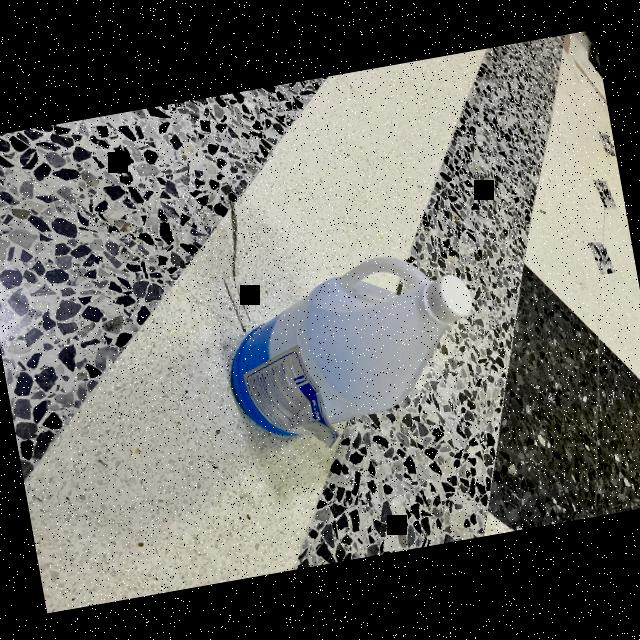chemical_plastic_gallon: (196, 222, 498, 472)
